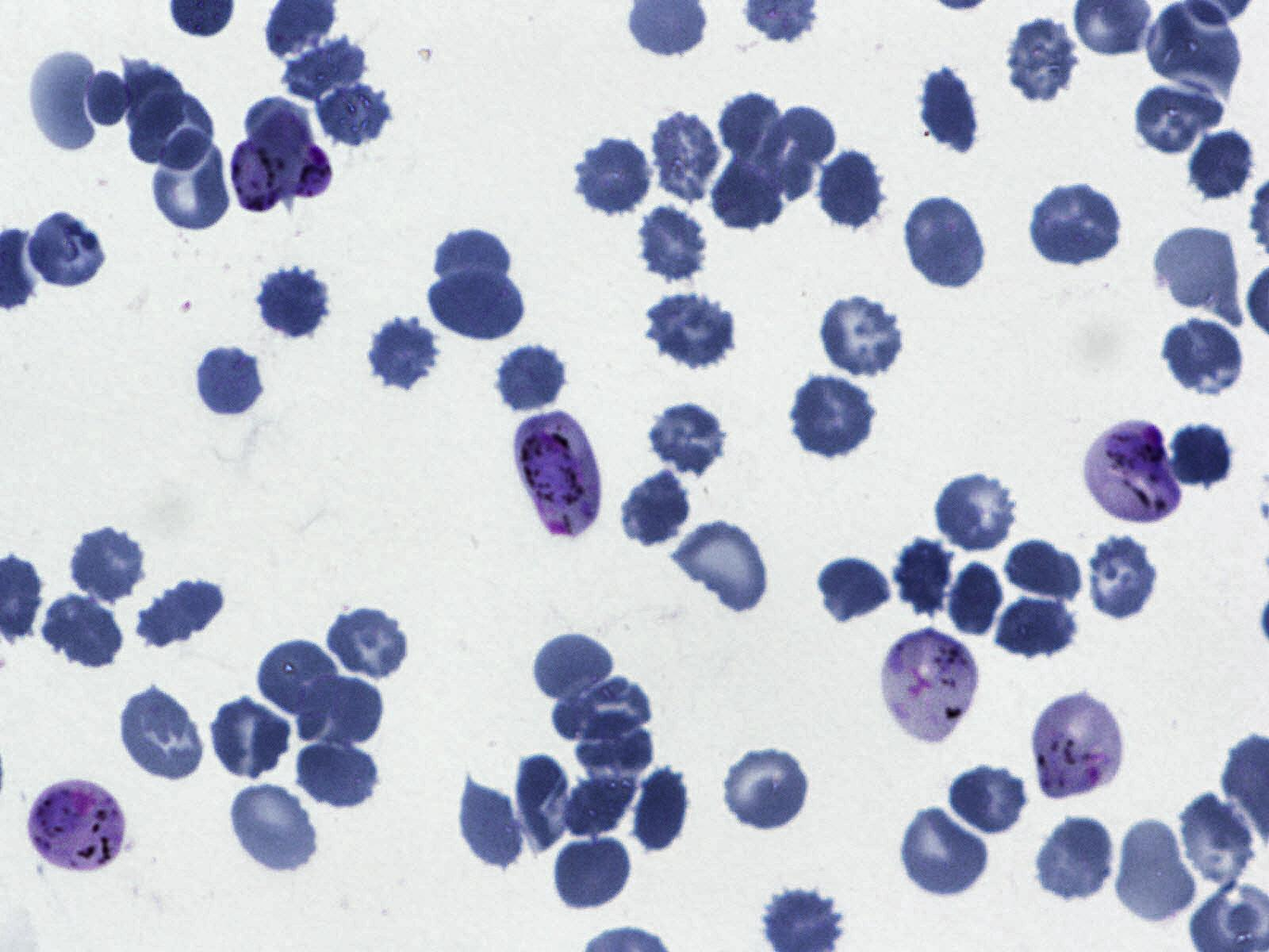Infected: (880, 628, 980, 739), (227, 109, 334, 212), (517, 413, 604, 536), (1029, 690, 1123, 800), (1083, 420, 1176, 527), (25, 779, 126, 873)
Uninfected: (150, 121, 237, 239), (1116, 816, 1198, 930), (899, 804, 995, 900), (226, 781, 320, 877), (671, 519, 769, 611), (1175, 790, 1259, 897), (750, 102, 839, 202), (1154, 222, 1242, 319), (117, 685, 205, 781), (27, 50, 109, 152), (722, 744, 814, 832), (904, 195, 987, 292), (255, 637, 343, 728), (129, 81, 215, 174), (816, 291, 907, 378), (1029, 183, 1124, 266), (1129, 79, 1225, 159), (789, 374, 878, 459), (209, 692, 294, 781), (246, 96, 312, 209), (1034, 816, 1118, 904), (430, 266, 527, 342), (644, 290, 737, 369), (651, 109, 727, 204), (931, 471, 1020, 552), (1160, 316, 1248, 397), (135, 574, 228, 650), (1083, 533, 1161, 622), (432, 223, 515, 305), (324, 602, 411, 680), (551, 831, 634, 912), (41, 592, 126, 671), (67, 523, 148, 605), (646, 400, 730, 479), (551, 678, 653, 743), (455, 785, 529, 873), (576, 136, 655, 218), (1005, 19, 1080, 105), (294, 738, 382, 811), (366, 312, 443, 394), (620, 467, 696, 550), (815, 551, 895, 629), (917, 64, 980, 163), (28, 209, 104, 291), (295, 674, 384, 744), (633, 203, 710, 283), (712, 152, 788, 233), (532, 630, 615, 704), (996, 591, 1079, 664), (315, 75, 392, 152), (572, 708, 657, 776), (949, 765, 1030, 836), (719, 92, 790, 173), (280, 38, 368, 103), (255, 263, 329, 340), (818, 148, 885, 233), (1002, 539, 1083, 608), (1187, 128, 1259, 205), (516, 752, 572, 851), (630, 767, 690, 857), (895, 534, 957, 621), (496, 342, 569, 414), (194, 344, 263, 419), (565, 770, 639, 838), (943, 559, 1003, 639), (1171, 420, 1233, 491)
